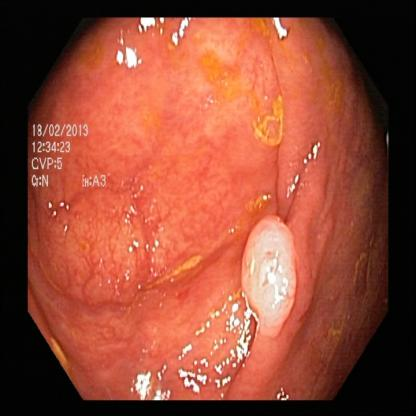Labels: (26, 120, 112, 195)
Polyps: (230, 214, 312, 340)
